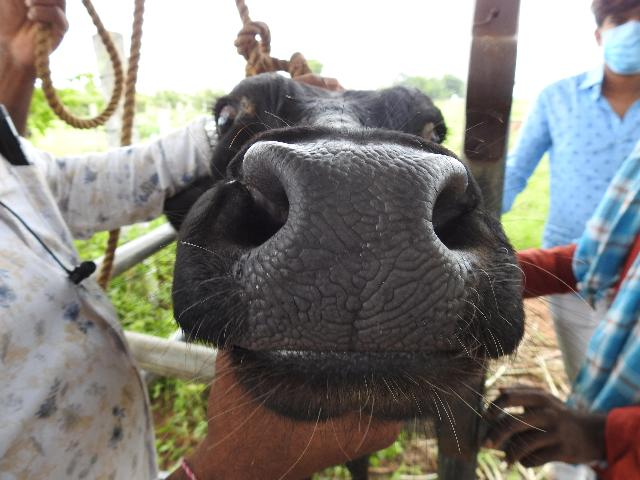Muzzle: (269, 148, 445, 346)
